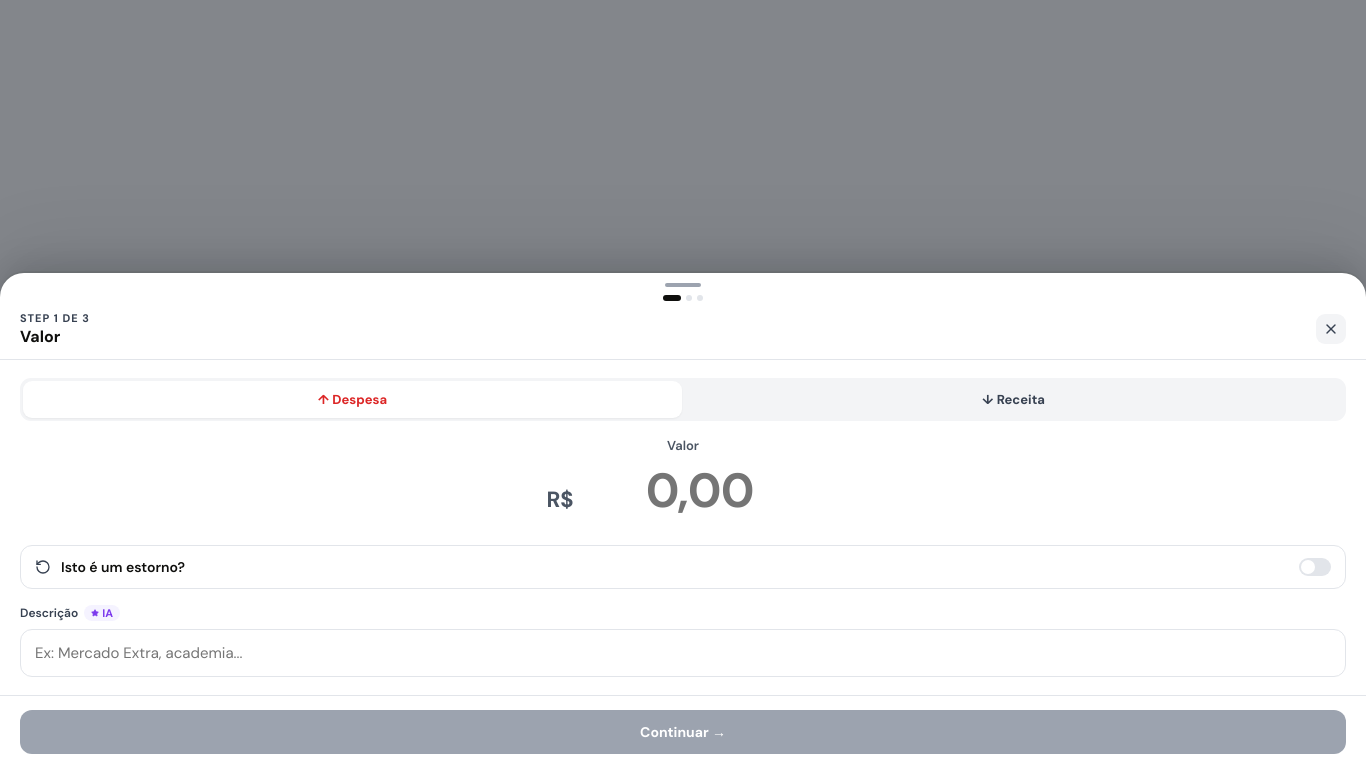
NovaTransacaoModal — editar lançamento de categoria apagada › no celular em modo demonstração (ids nulos) os chips de categoria continuam aparecendo
The image size is (1366, 768).
Step 1. Type "Teste" into the field with placeholder "Ex: Mercado Extra, academia..." → (683, 653), box [20, 629, 1346, 677]
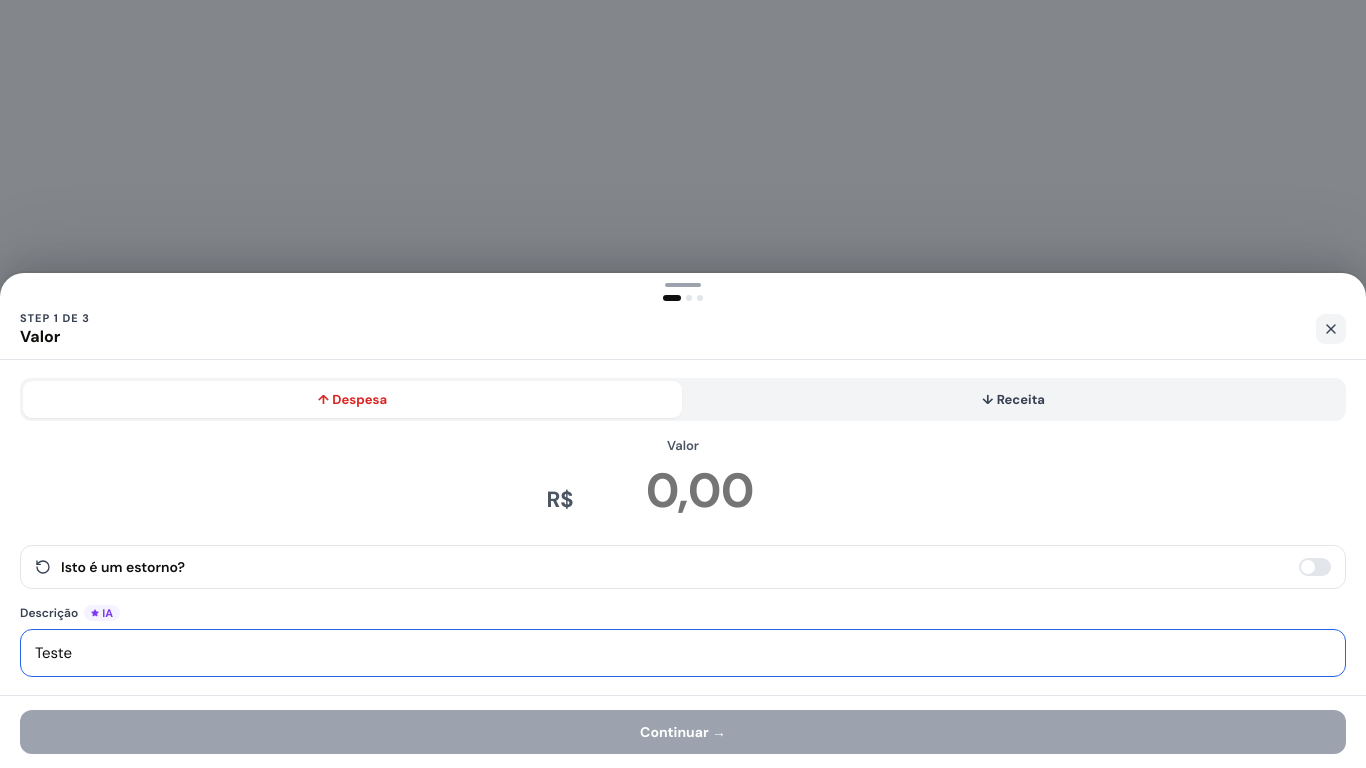
Step 2. Type "1000" into the field with placeholder "0,00" → (700, 490), box [580, 458, 820, 523]
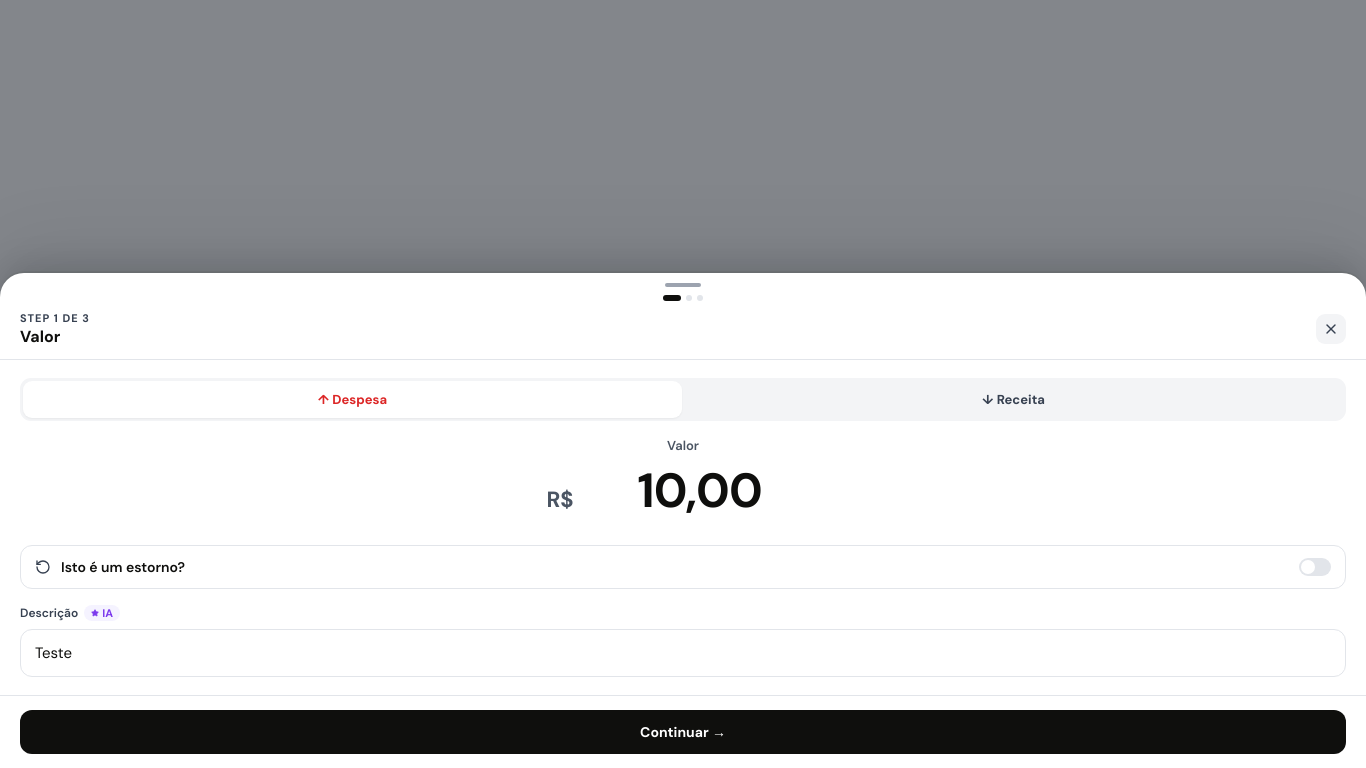
Step 3. Click the button "Continuar →" → click(683, 732), box [20, 710, 1346, 754]
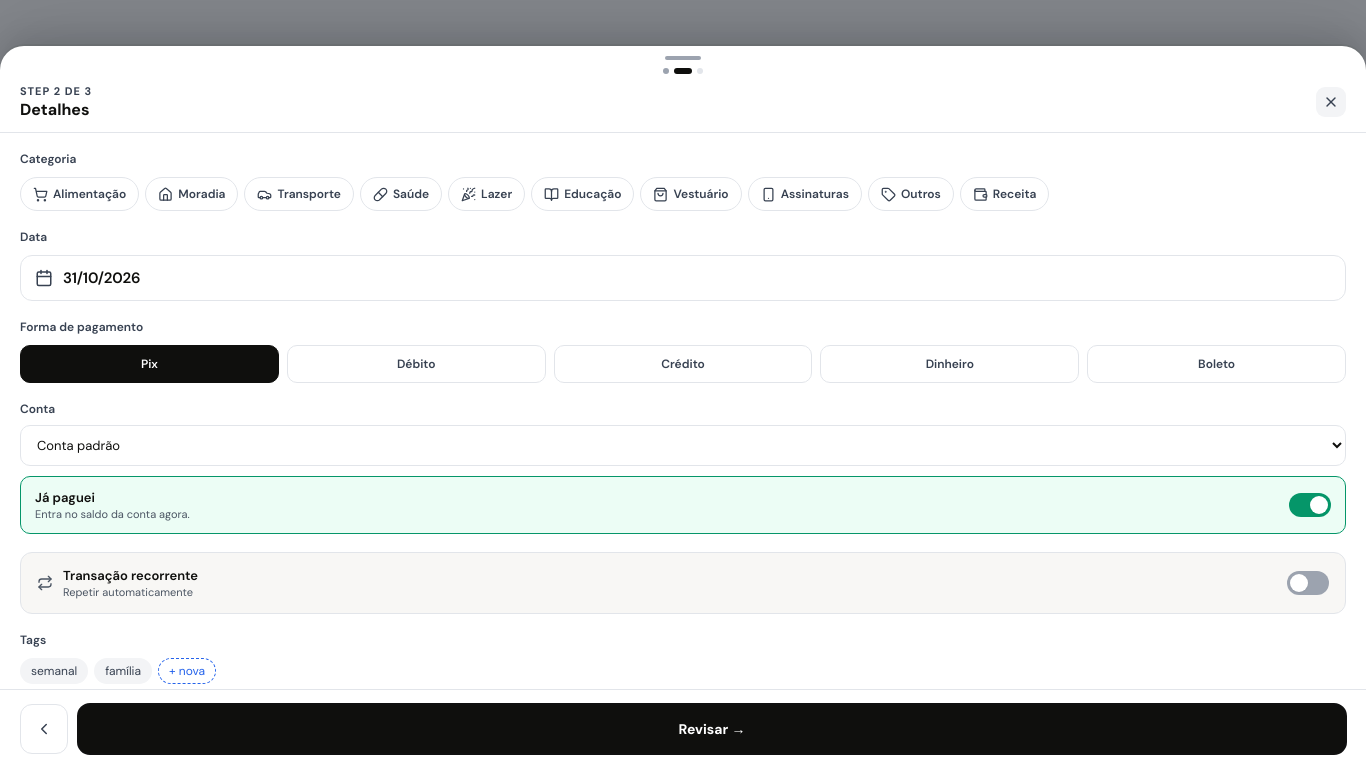
Now the button "Alimentação" is shown, box [20, 177, 139, 211]
